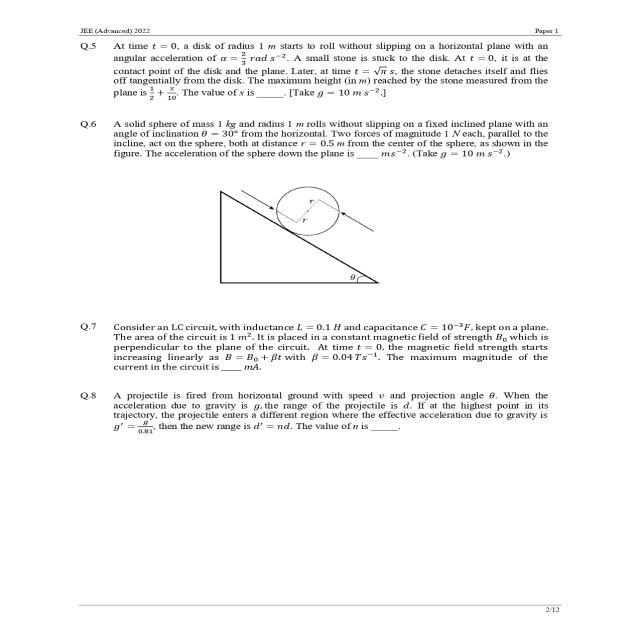Question_Answer_Block: (60, 114, 640, 299), (61, 313, 640, 382), (58, 38, 640, 106), (58, 386, 636, 452)
Question_Block: (56, 115, 640, 296), (58, 314, 640, 382), (60, 385, 640, 453), (56, 38, 640, 104)
Question_Paper_Area: (56, 41, 640, 557)
